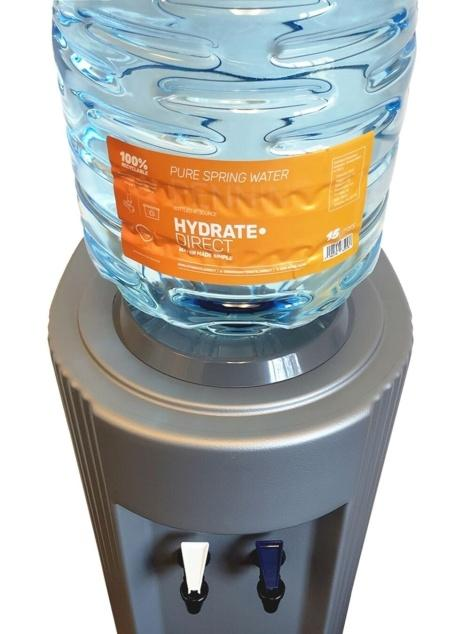Dispenser: (47, 0, 413, 632)
